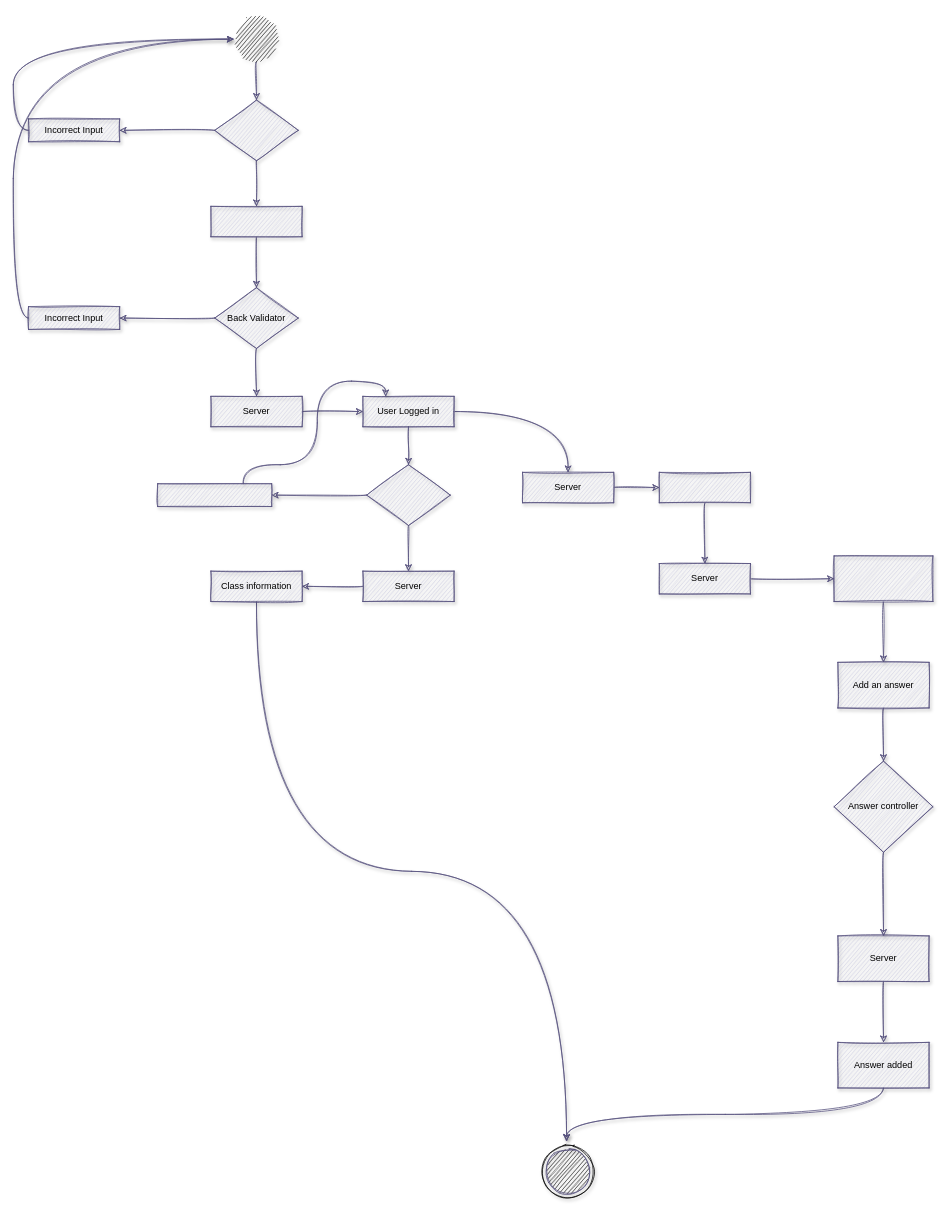
The diagram is 952 pixels wide and 1217 high, and some of its shapes have lost their labels. Here are the shapes that lost their labels. From the top down, the centre of each, then its label:
At (x=257, y=131): "Front Validator".
At (x=257, y=222): "Login API".
At (x=215, y=496): "This class is not availabe".
At (x=409, y=496): "Class validation".
At (x=705, y=488): "All questions".
At (x=883, y=579): "Answers of a question".
